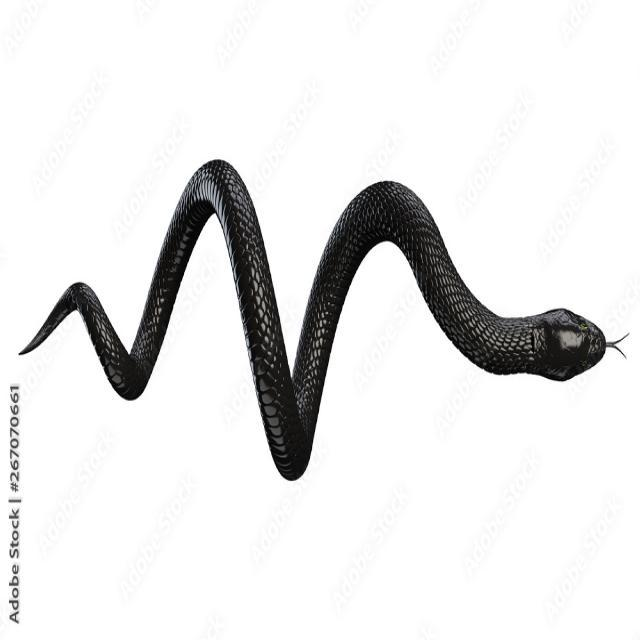Snake: (19, 145, 634, 482)
